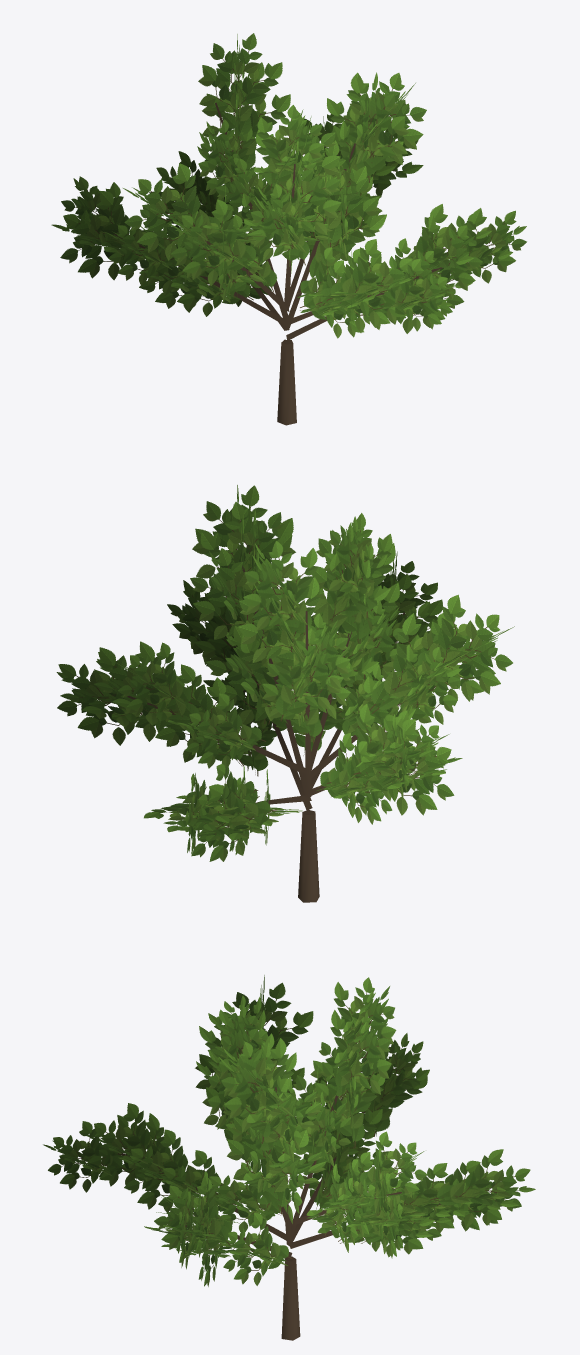
File: Tall Shrub 02.glb
3 views of the same model, one above another, from view 1: azimuth 30°, elevation 25°; view 2: azimuth 150°, elevation 25°; view 3: azimuth 270°, elevation 25° (orthographic). The views are drawn at different scales.
Visible parts, largest first — view 1: Tall Shrub 02; view 2: Tall Shrub 02; view 3: Tall Shrub 02.
Boxes of the visible parts, bbox=[...] form: Tall Shrub 02: bbox=[51, 33, 526, 425]; Tall Shrub 02: bbox=[56, 485, 514, 902]; Tall Shrub 02: bbox=[43, 975, 535, 1340].
Bounding box in the file's own units: 2.88 × 2.47 × 3.22.
1 material, 1 textured.
